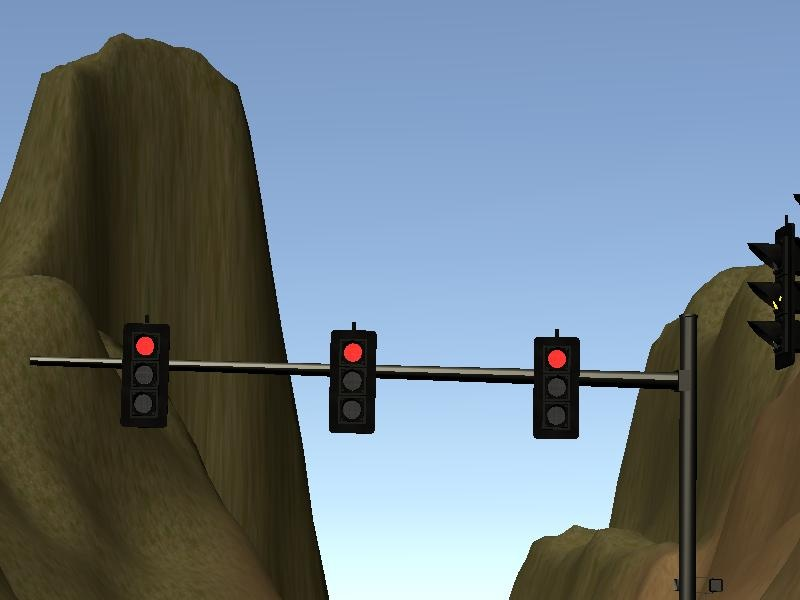red: (526, 333, 588, 443), (324, 324, 382, 440), (117, 317, 172, 434)
